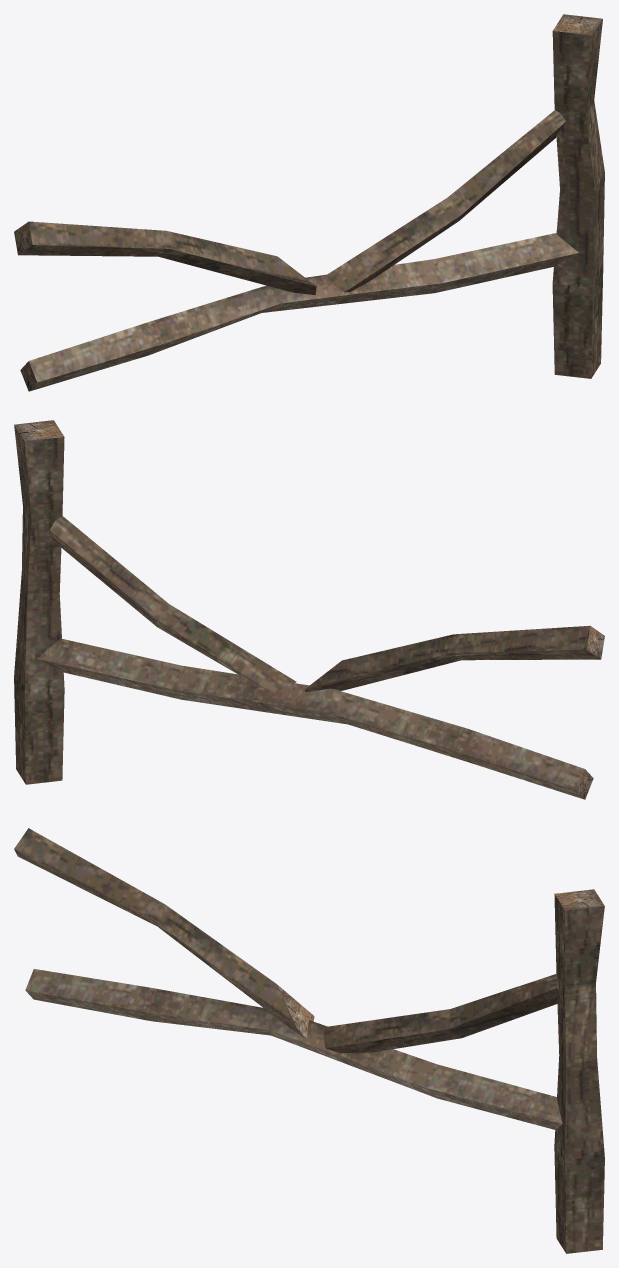
The model's file is Urban_WoodenFenceBrokenAlt_Model.fbx.
3 renders of one model, top to bottom at view 1: azimuth 30°, elevation 25°; view 2: azimuth 150°, elevation 25°; view 3: azimuth 330°, elevation 25°, orthographic.
Visible parts, largest first — view 1: Urban_WoodenFenceBrokenAlt_Mesh; view 2: Urban_WoodenFenceBrokenAlt_Mesh; view 3: Urban_WoodenFenceBrokenAlt_Mesh.
Part boxes in pixels (x1,y1,x2,y2): Urban_WoodenFenceBrokenAlt_Mesh: (14,14,604,391); Urban_WoodenFenceBrokenAlt_Mesh: (14,420,604,799); Urban_WoodenFenceBrokenAlt_Mesh: (14,828,604,1253).
Bounding box in the file's own units: 2.14 × 1.2 × 0.1891.
